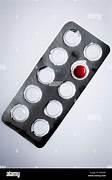pill_Strip: (2, 22, 109, 147), (44, 100, 62, 118), (63, 30, 82, 47), (71, 60, 88, 79), (49, 48, 67, 65), (11, 104, 28, 121), (31, 119, 48, 136), (24, 85, 41, 102), (58, 81, 75, 98), (84, 43, 101, 60), (37, 67, 54, 83)
